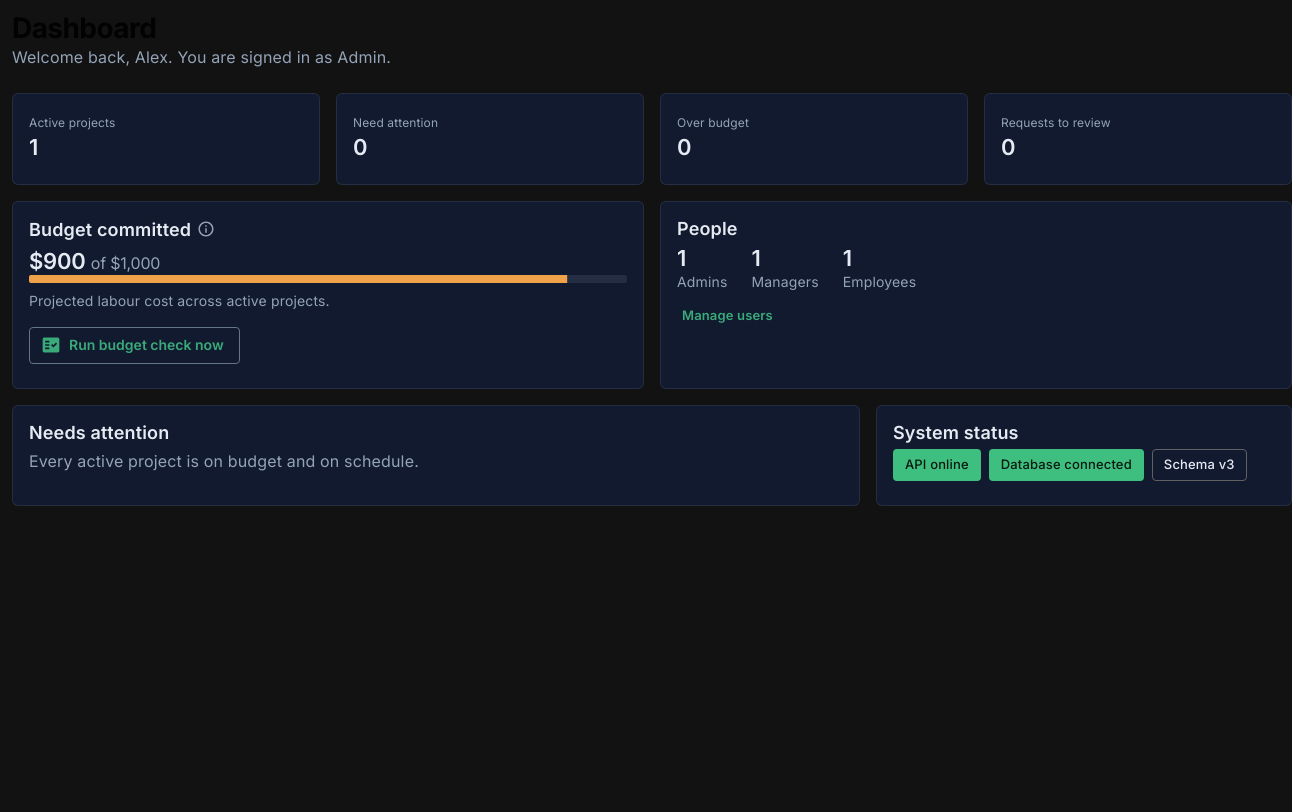
Test case: HomePage dashboards › lets admins run the budget check on demand
Step 1. Click the button "Run budget check now" → click(134, 345), box [29,327,240,364]
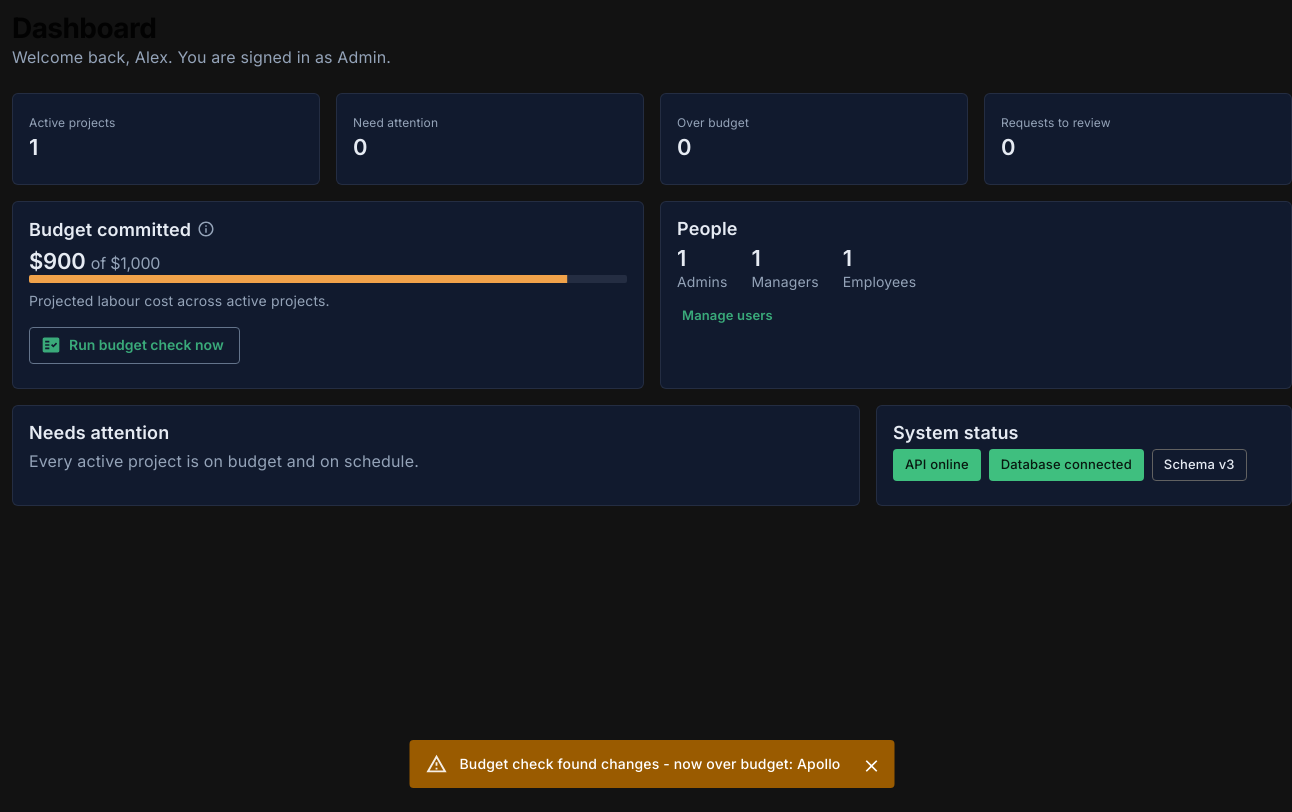
Now the text "Budget check found changes - now over budget: Apollo" is shown, box [460,755,840,772]
